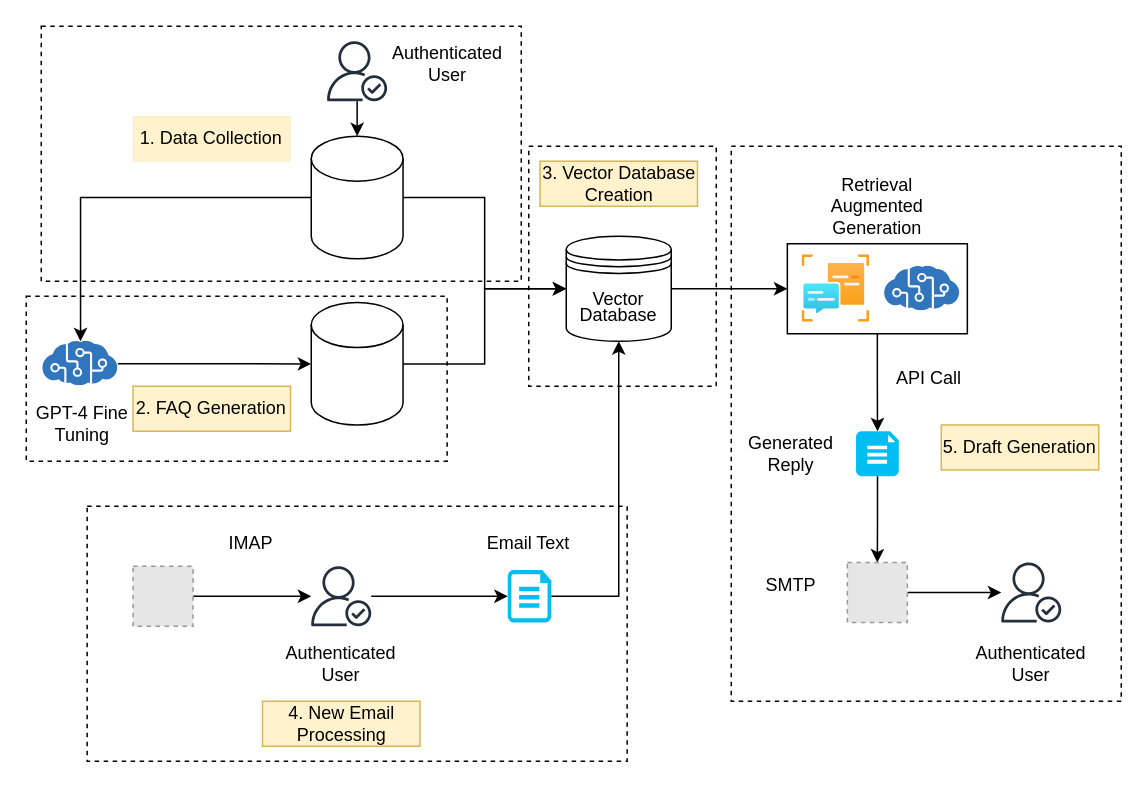
Some shapes in this 1148 by 788 pixel diagram are drawn without their labels. Grey dashed boxes stand in for pictures. The shapes that lost their labels are listed below. From the top down, each one's box as (x1, y1, x2, y2) in pixels, then its label:
(310, 135, 403, 259): Past Email/Reply Pairs
(310, 301, 403, 425): Frequently Asked Questions & Answers
